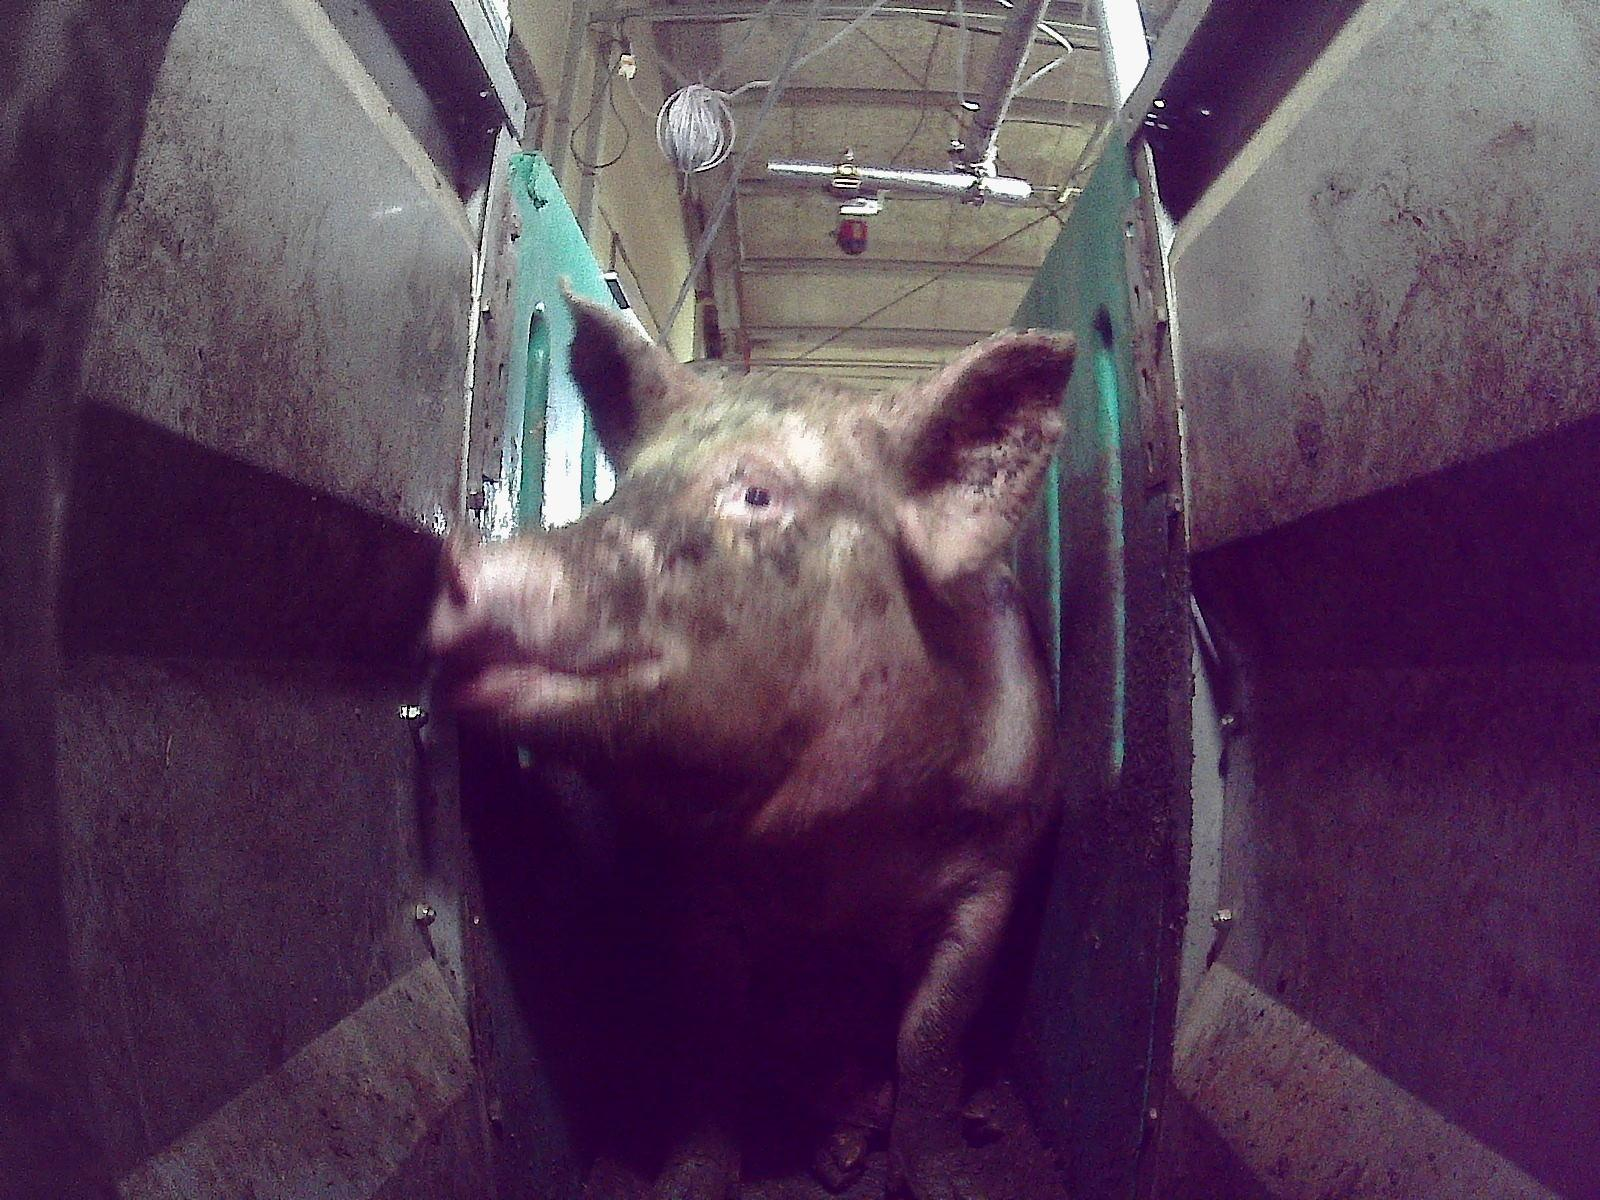Face: (417, 370, 907, 860)
